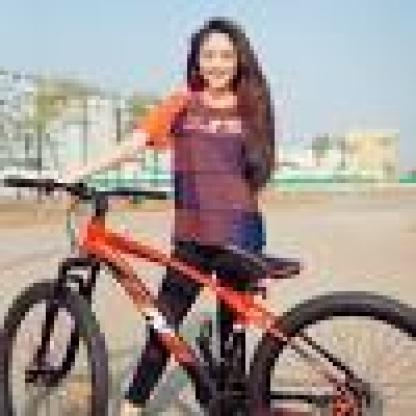Bike: (0, 166, 416, 416)
